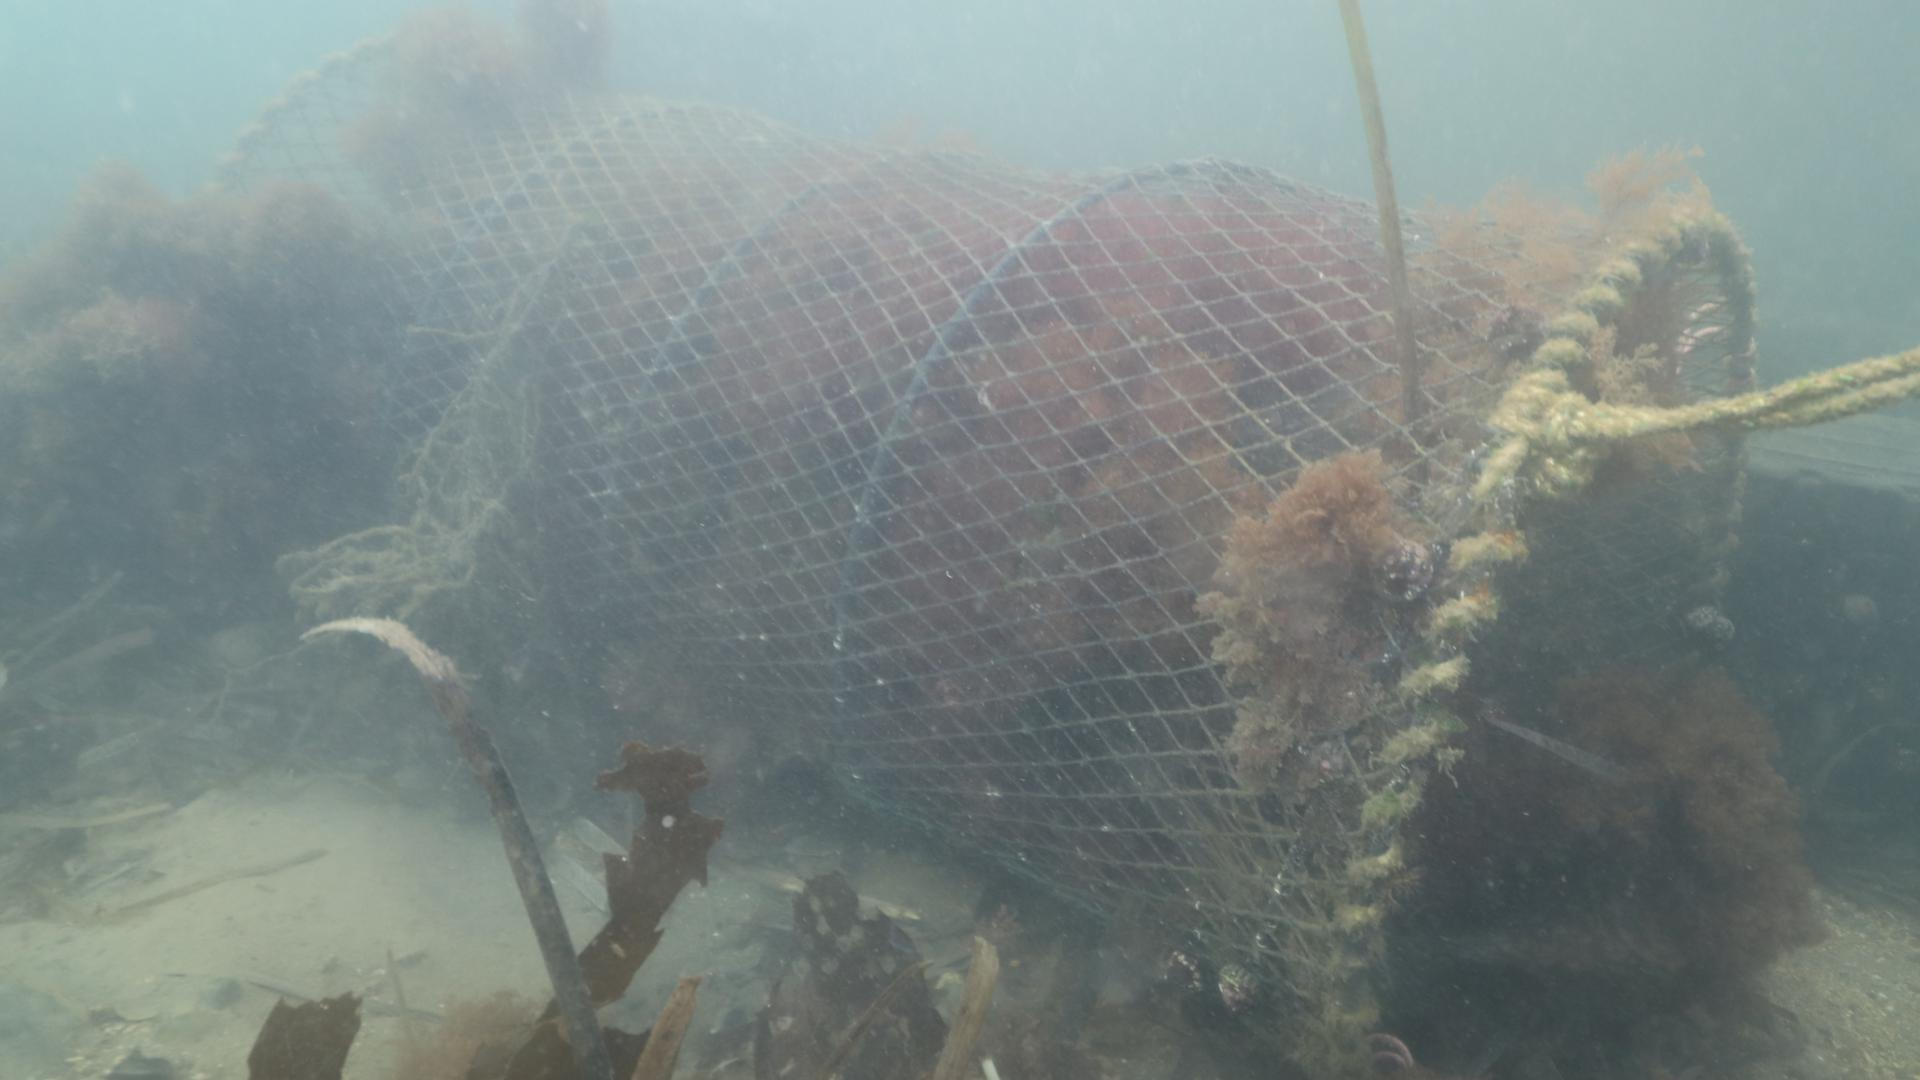bundle of ropes: (1538, 349, 1920, 487)
spring fish trap: (199, 18, 1753, 1076)
